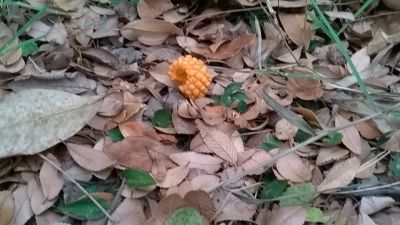eggs: (168, 54, 212, 99)
